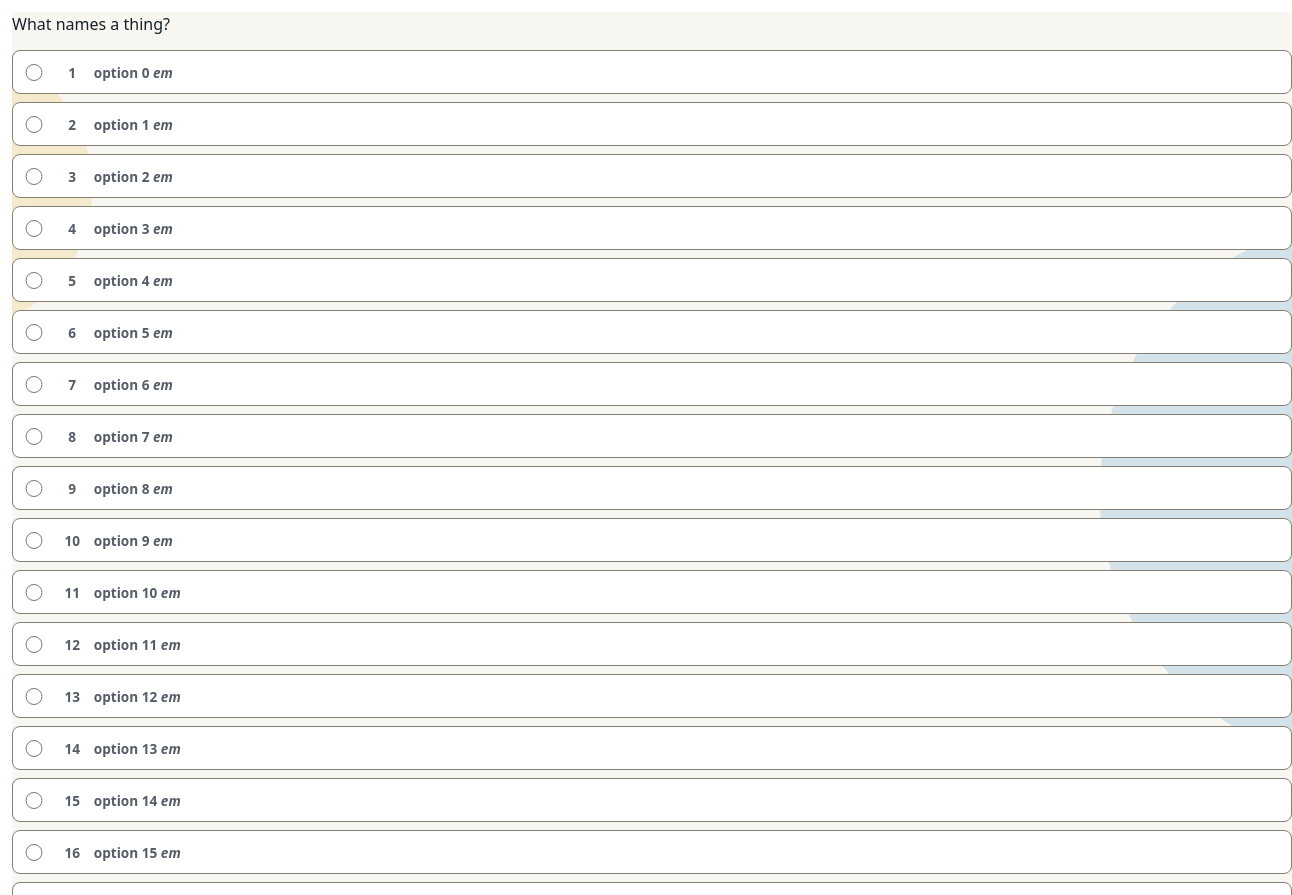
Scenario: MultipleChoice › parses each Markdown option once for the question, however many it offers
Click the radio button labelled "2 option 1 em" at (34, 124), box [25, 116, 43, 133]
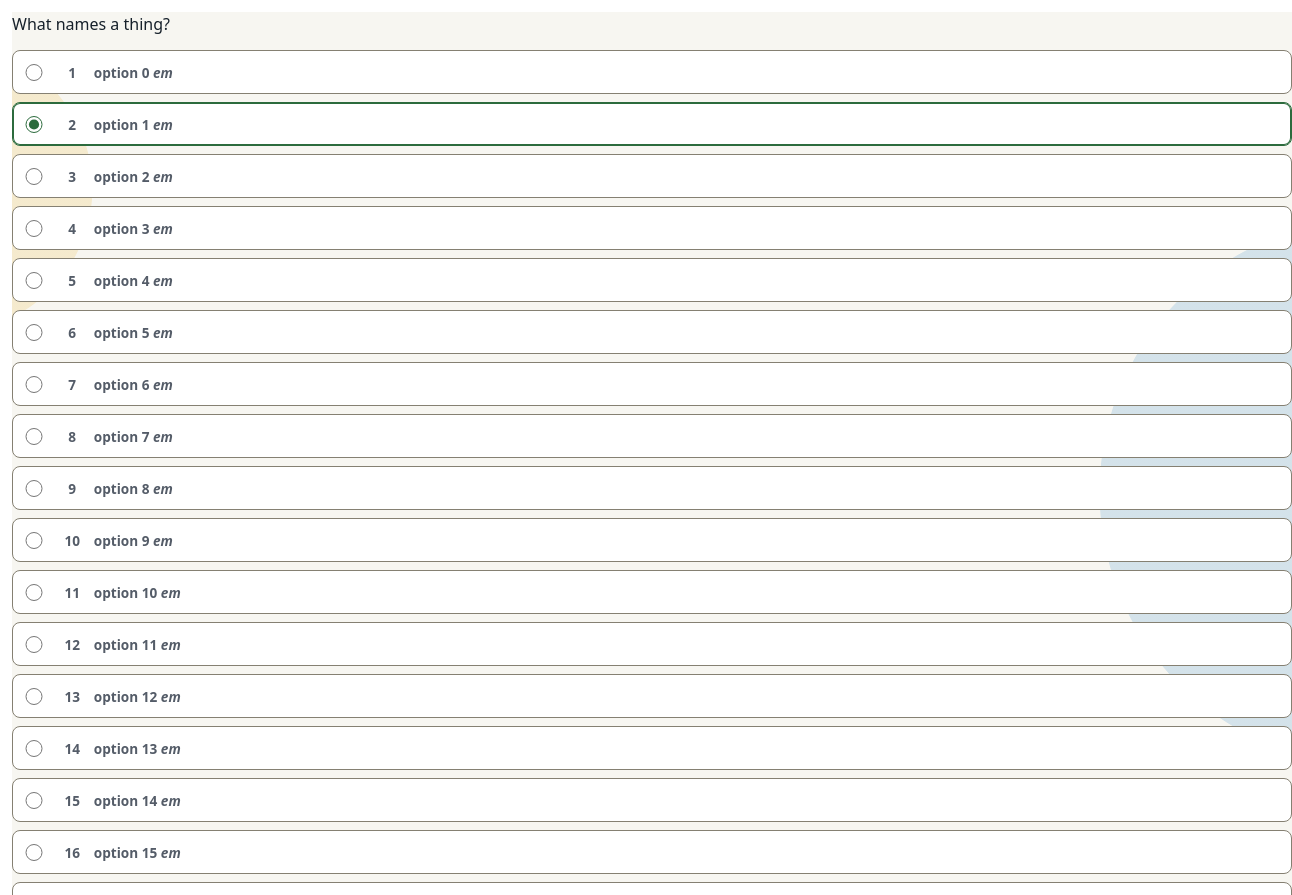
Press 3 in the radio button labelled "2 option 1 em", box [25, 116, 43, 133]
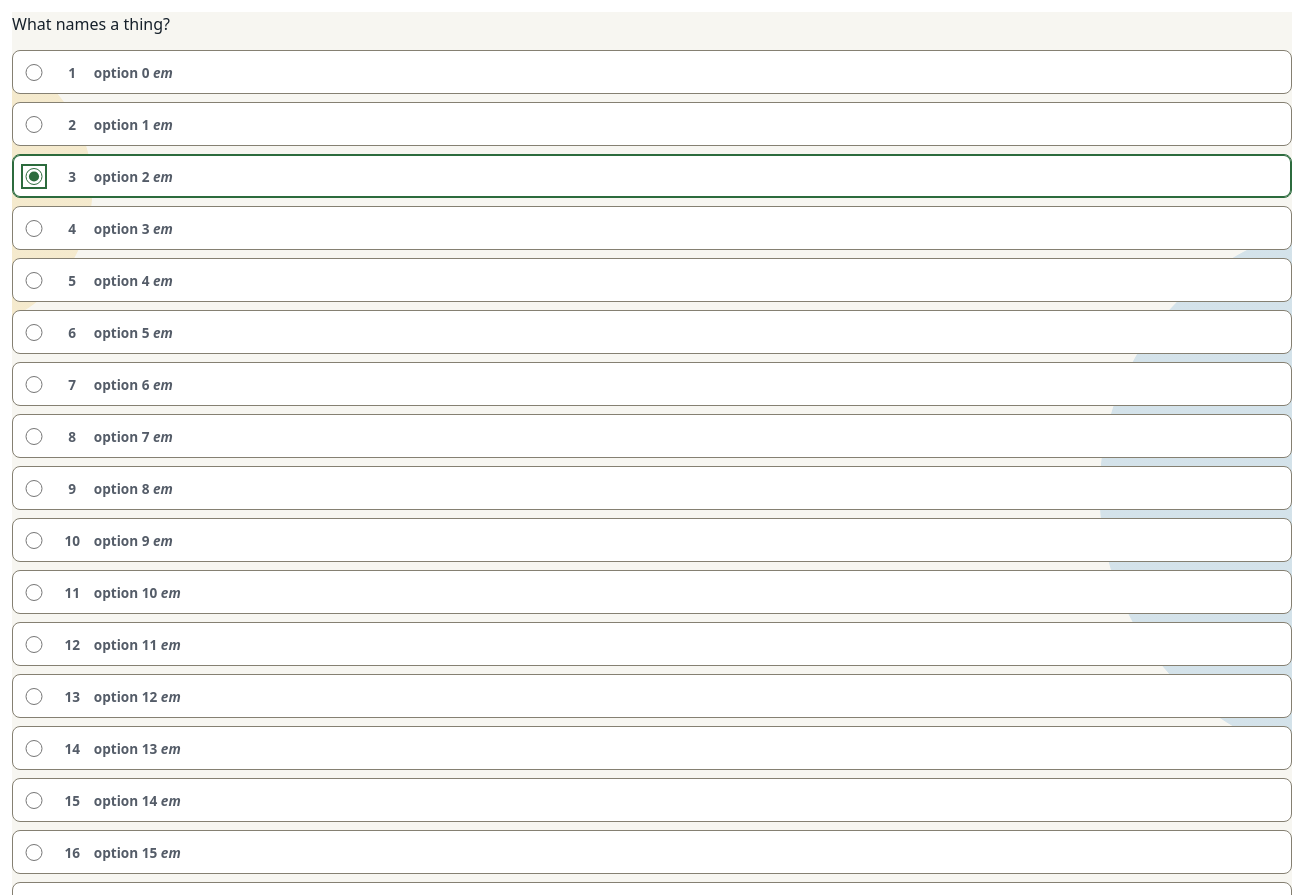
Expected: the radio button labelled "3 option 2 em" is checked, [25, 168, 43, 185]
